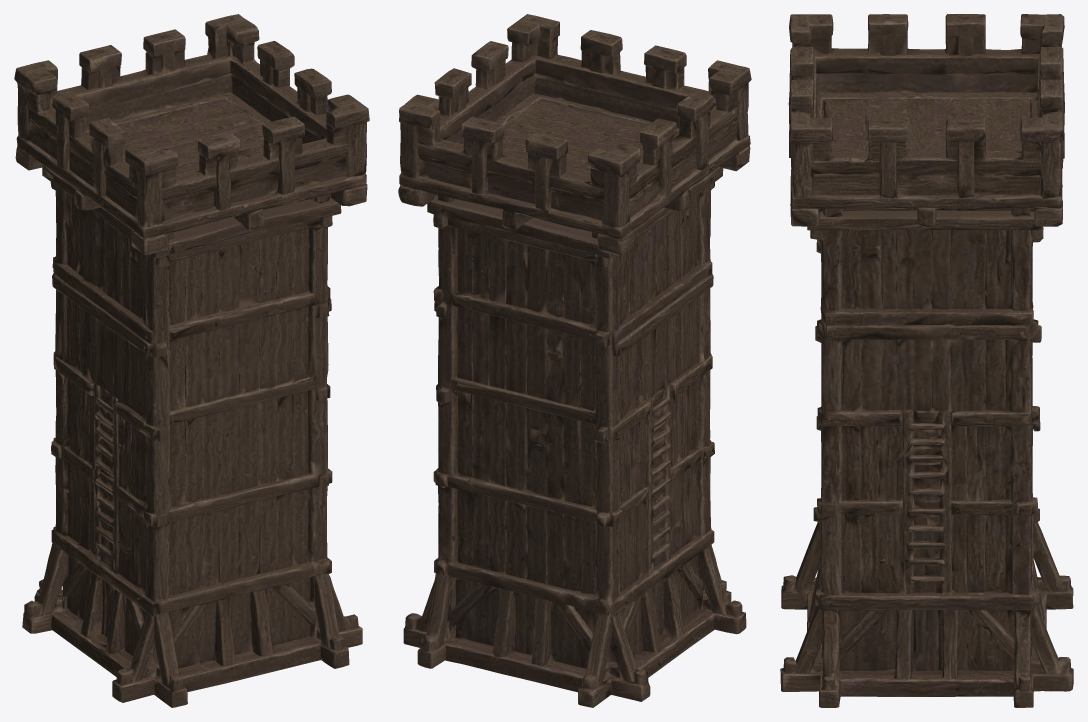
Rendered from tower_large.glb.
3 views of the same model, side by side, from view 1: azimuth 30°, elevation 25°; view 2: azimuth 150°, elevation 25°; view 3: azimuth 270°, elevation 25° (orthographic). The views are drawn at different scales.
Bounding box in the file's own units: 0.8819 × 1.9 × 0.8781.
Materials: 1 (1 with a texture image).
